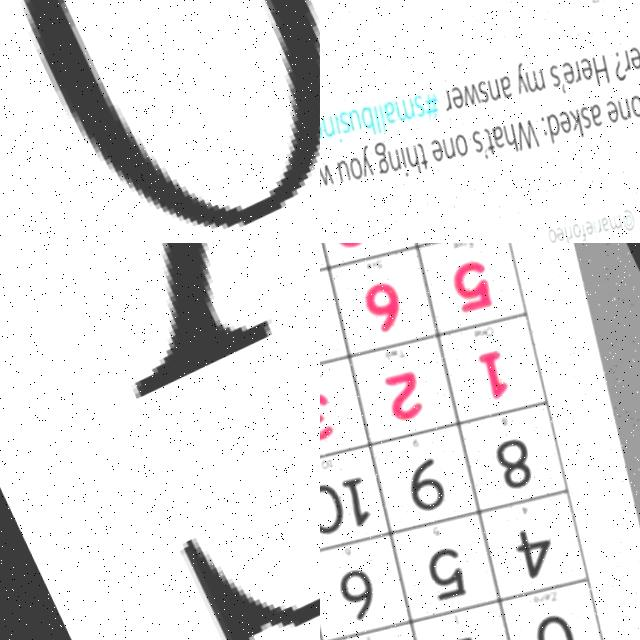0: (320, 476, 349, 555), (512, 613, 583, 640), (320, 243, 383, 270), (596, 0, 618, 14)
1: (453, 345, 524, 420), (320, 469, 381, 544), (353, 243, 415, 261), (587, 0, 610, 16)
2: (360, 364, 437, 443), (605, 0, 626, 13)
3: (320, 384, 345, 458)
4: (489, 521, 563, 603)
5: (433, 258, 508, 339), (403, 542, 477, 624)
6: (344, 276, 419, 355), (320, 563, 385, 640)
7: (580, 0, 600, 17)
8: (473, 433, 547, 514)
9: (385, 454, 456, 534)
G: (0, 243, 320, 640)
Q: (0, 0, 320, 243)
